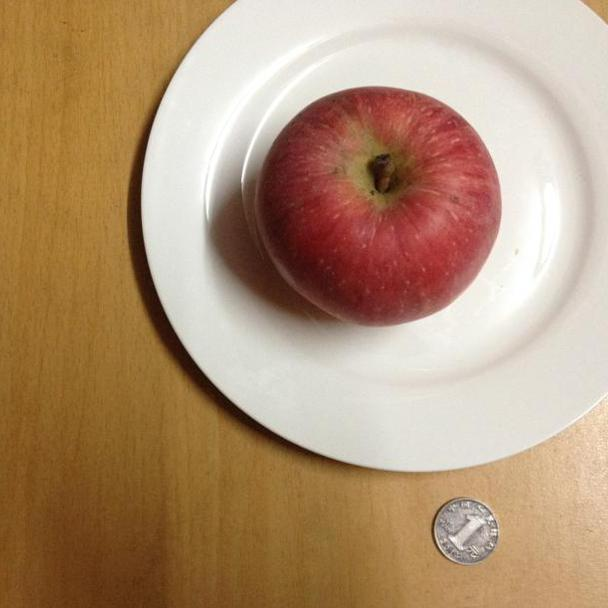apple: (255, 86, 502, 327)
